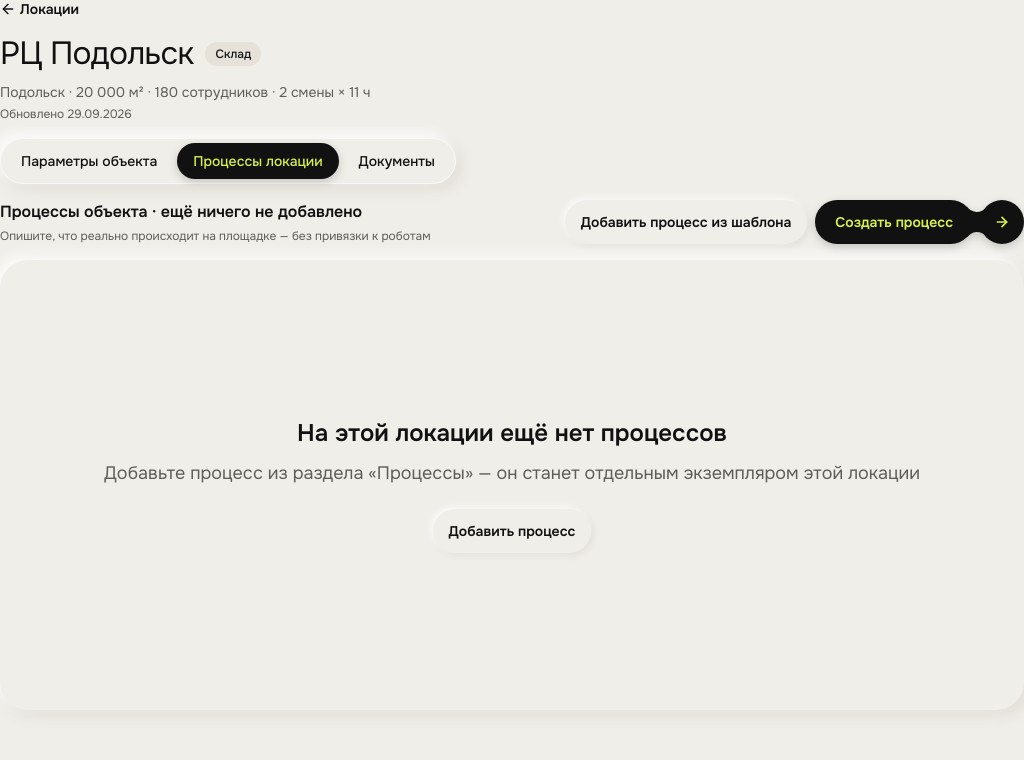
LocationPage (экраны 15 и 17) › пустая вкладка (locprocsempty, D-40) › shows the first added process as a card
The width and height of the screenshot is (1024, 760).
Click the button "Добавить процесс". click: (512,531)
box: top-left (433, 509), bottom-right (591, 553)
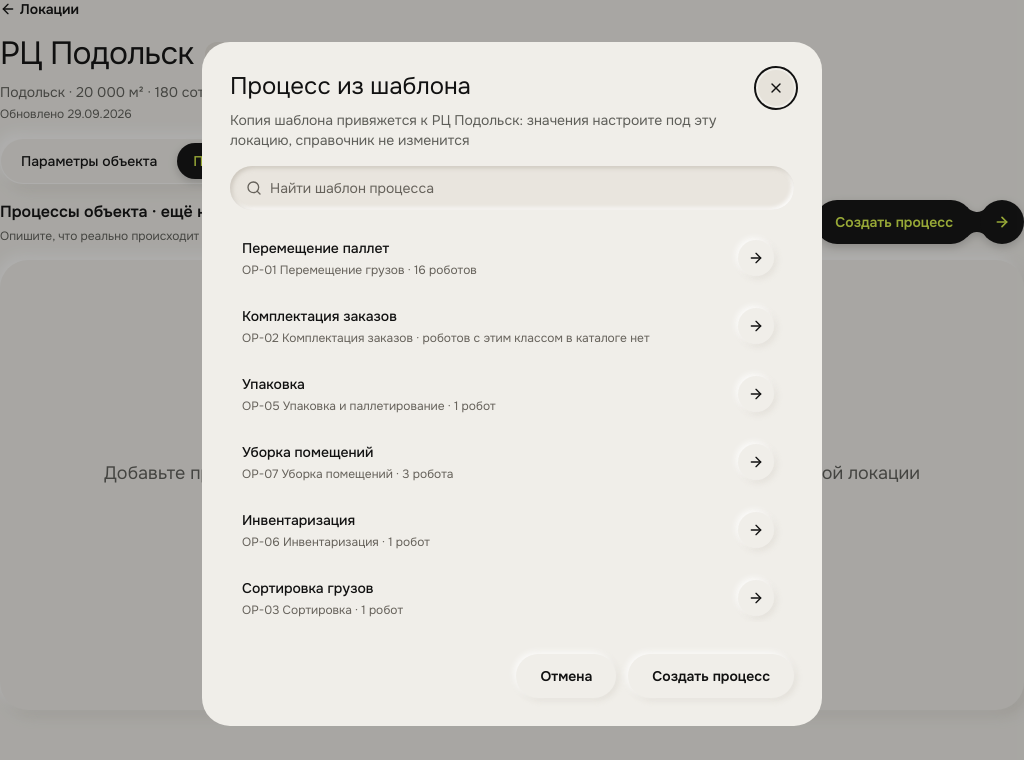
Click the button with aria-label "Добавить «Перемещение паллет»". click: (316,248)
box: top-left (230, 226), bottom-right (786, 290)
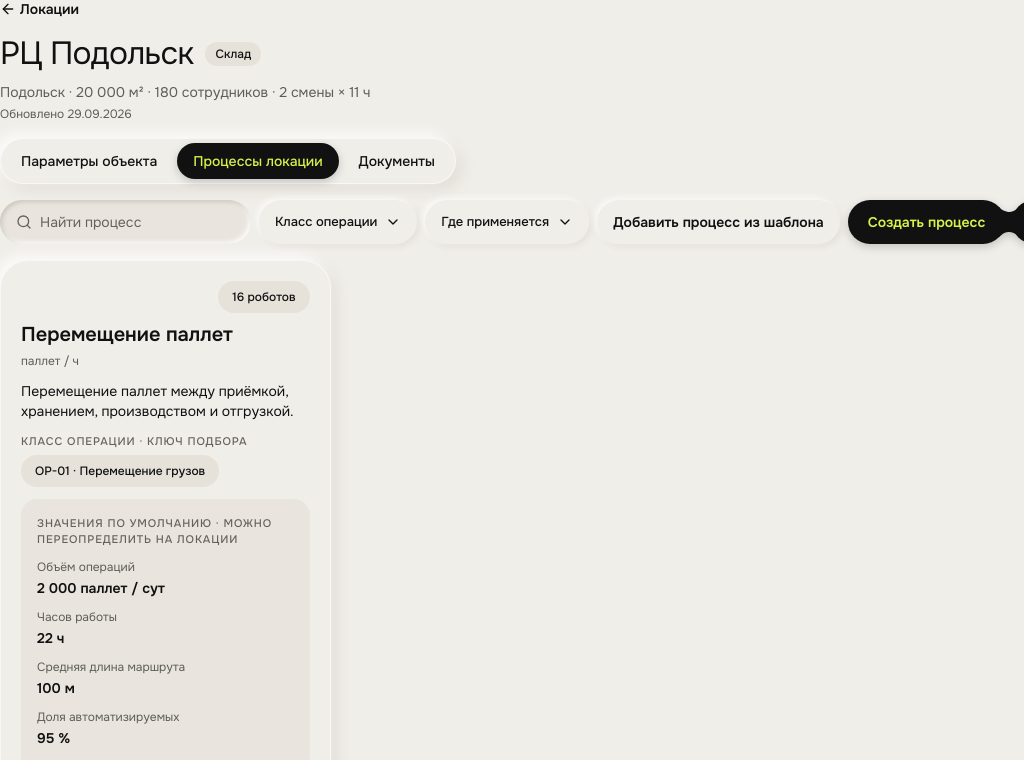
Expected: the heading "На этой локации ещё нет процессов" is gone
